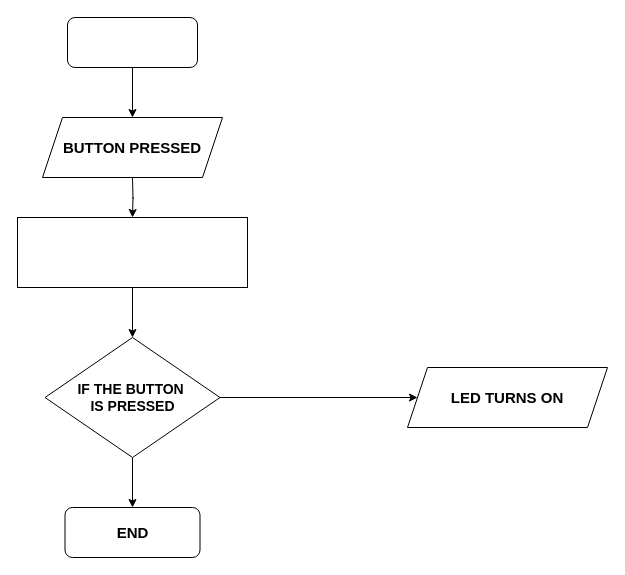
Some shapes in this 625 by 575 pixel diagram are drawn without their labels. The shapes that lost their labels are listed below. From the top down, each one's centre as x and y in pixels, then its label:
At point (132, 42): "START".
At point (132, 252): "INFORMATION SENDS TO (MICROCONTROLLER UNIT)".
